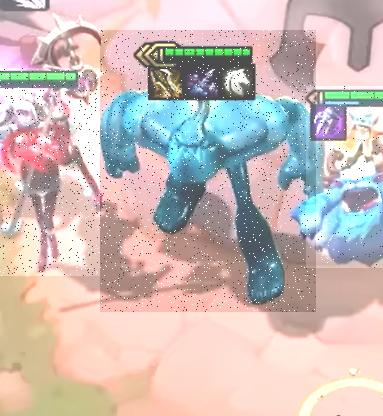1_nunu: (306, 86, 383, 268)
2_lillia: (0, 68, 100, 276)
3_zac: (100, 30, 316, 312)
